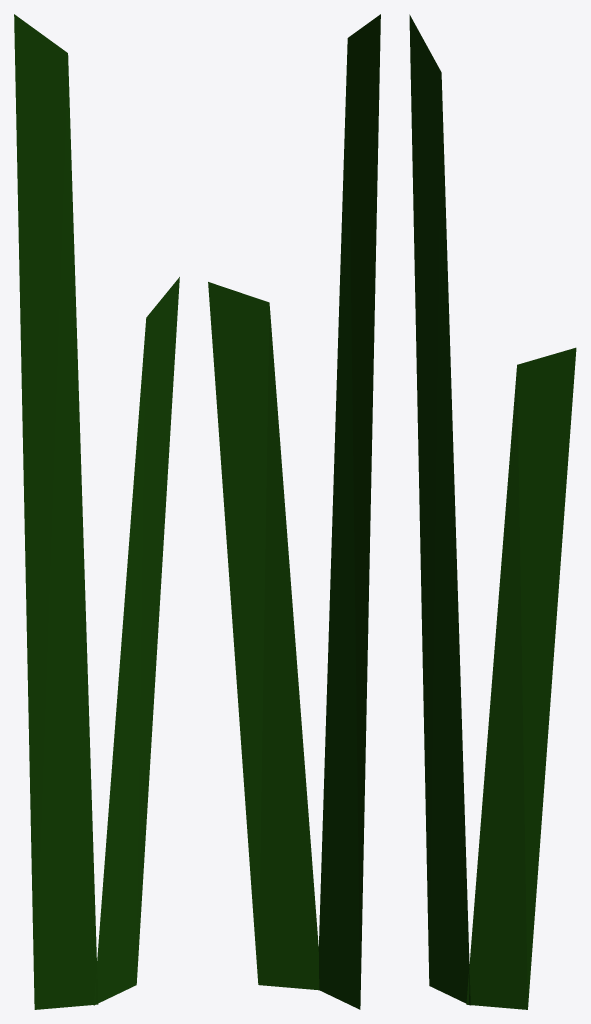
File: grass1.glb
The picture shows the model from 3 angles, left to right: view 1: azimuth 30°, elevation 25°; view 2: azimuth 150°, elevation 25°; view 3: azimuth 330°, elevation 25°; orthographic projection. The views are drawn at different scales.
Visible parts, largest first — view 1: Plane.001; view 2: Plane.001; view 3: Plane.001.
Part boxes in pixels (x1=…): Plane.001: x1=14, y1=14, x2=179, y2=1009; Plane.001: x1=208, y1=14, x2=380, y2=1009; Plane.001: x1=409, y1=14, x2=576, y2=1009.
Size of the model in its own units: 0.0677 by 0.3826 by 0.00964.
Materials: 1 (1 with a texture image).
